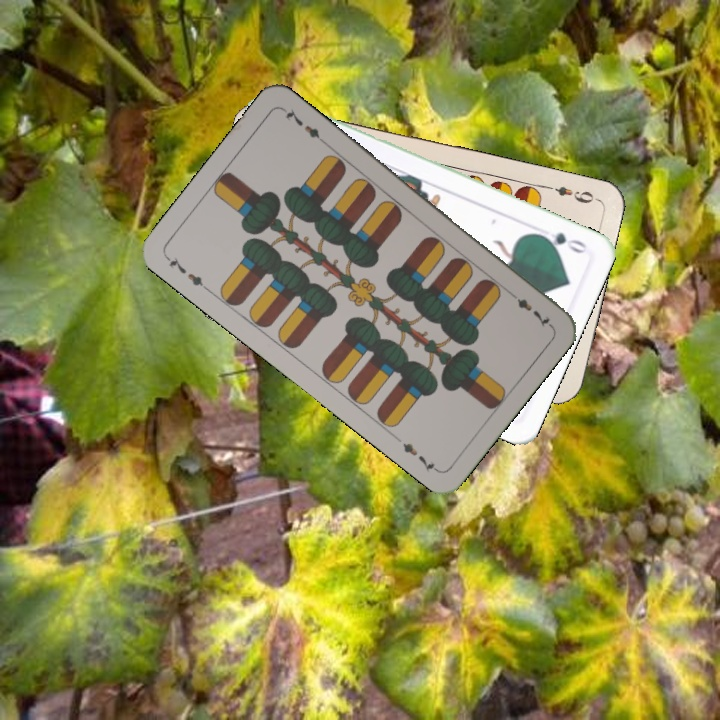E7: (504, 287, 554, 330), (162, 252, 212, 294)
E9: (541, 181, 600, 207)
GO: (532, 228, 590, 256)
